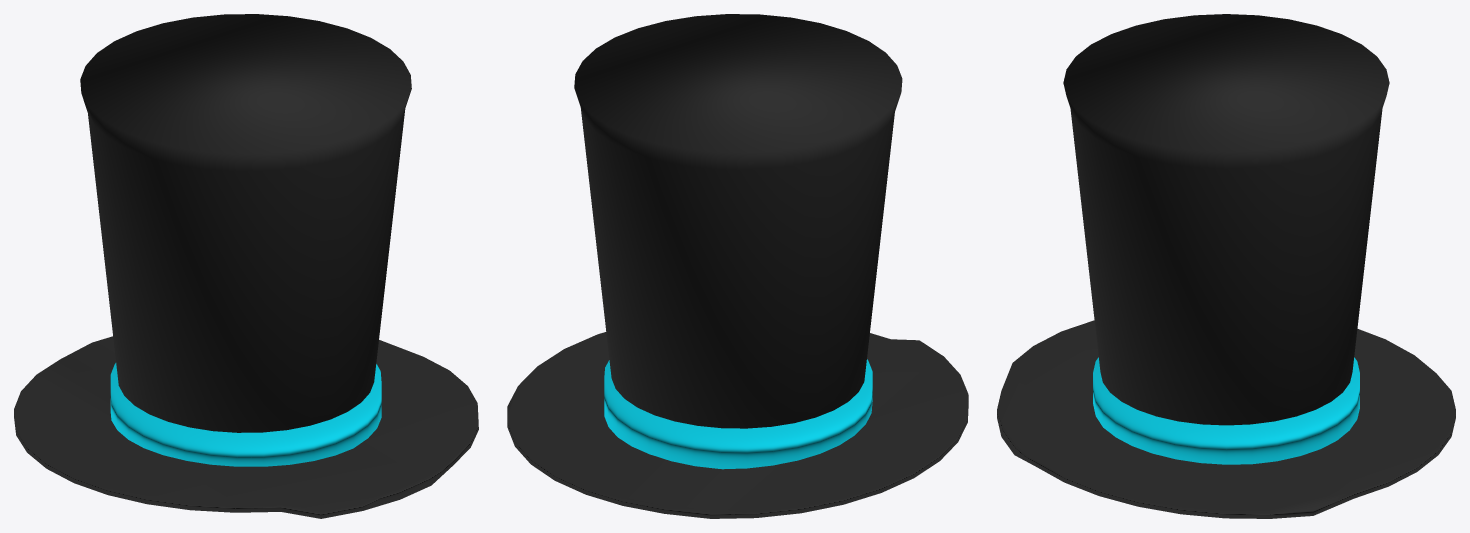
File: tophat.fbx
3 views of the same model, side by side, from view 1: azimuth 30°, elevation 25°; view 2: azimuth 150°, elevation 25°; view 3: azimuth 270°, elevation 25° (orthographic).
Visible parts, largest first — view 1: Cylinder.001, Cylinder, Cylinder.002; view 2: Cylinder.001, Cylinder, Cylinder.002; view 3: Cylinder.001, Cylinder, Cylinder.002.
Boxes of the visible parts, x1,y1,x2,y2 form: Cylinder.001: (80, 14, 411, 432); Cylinder: (14, 336, 478, 518); Cylinder.002: (110, 363, 381, 466); Cylinder.001: (574, 14, 902, 428); Cylinder: (507, 332, 968, 518); Cylinder.002: (604, 359, 872, 469); Cylinder.001: (1063, 14, 1389, 425); Cylinder: (997, 320, 1455, 518); Cylinder.002: (1093, 357, 1359, 464).
Size of the model in its own units: 838 by 689 by 838.
